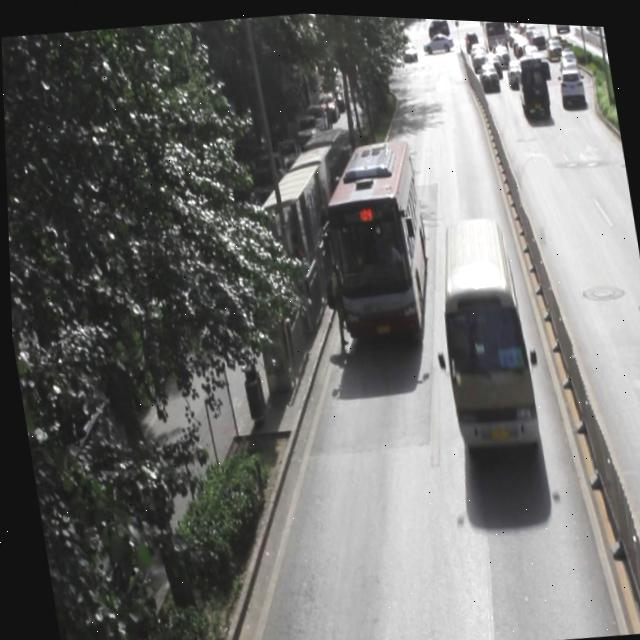truck: (422, 207, 537, 447)
van: (315, 132, 434, 339)
